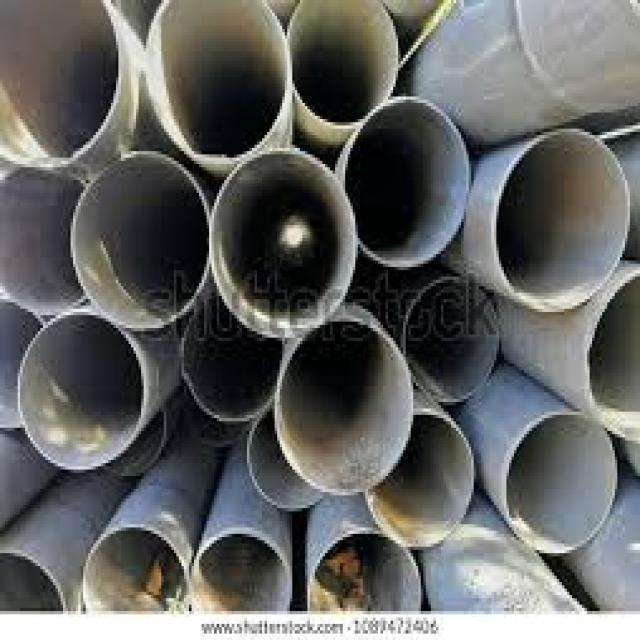pipe: (212, 151, 357, 339), (492, 129, 631, 311), (274, 318, 414, 496), (146, 1, 291, 164), (74, 151, 208, 326), (344, 100, 472, 269), (16, 311, 145, 473), (0, 2, 121, 164), (506, 412, 618, 555), (366, 414, 474, 546), (290, 1, 398, 130), (181, 294, 281, 422), (1, 170, 84, 318), (405, 283, 501, 403), (582, 267, 640, 437), (81, 526, 190, 612), (306, 533, 422, 612), (245, 408, 319, 512), (192, 533, 289, 611)
